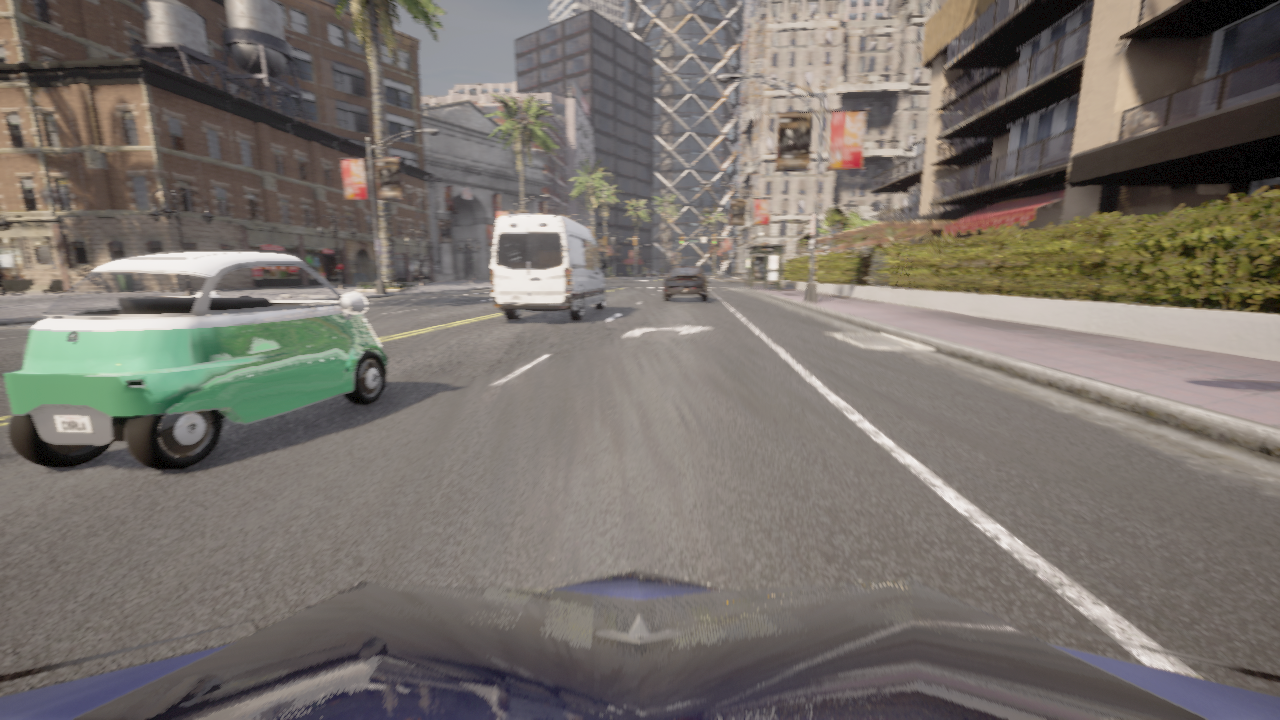cyclist: (0, 569, 1279, 719), (4, 251, 387, 470), (491, 215, 606, 320), (662, 265, 710, 301)
